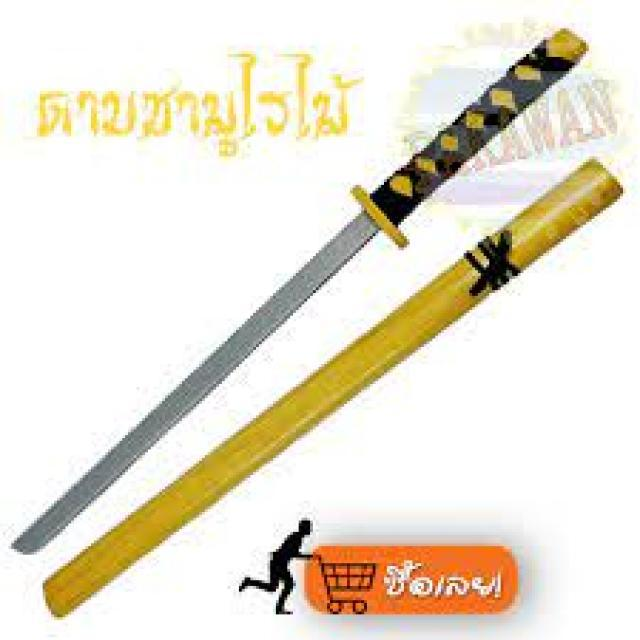long sword: (7, 28, 591, 551)
